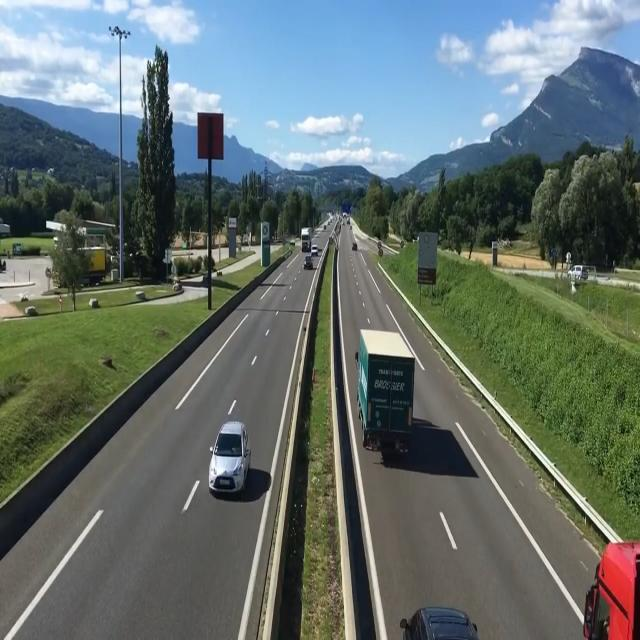car: (210, 413, 253, 500), (400, 605, 488, 640), (302, 253, 314, 272)
truck: (353, 328, 416, 456), (581, 533, 640, 638), (300, 223, 310, 252)
